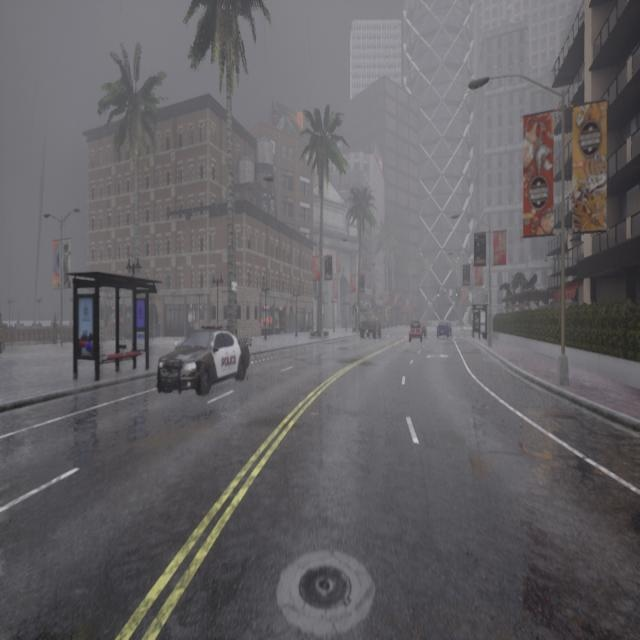bien_chi_dan: (455, 286, 459, 299), (437, 288, 440, 298), (486, 295, 488, 307), (437, 292, 440, 298), (456, 292, 458, 298), (486, 302, 488, 305), (288, 324, 288, 324)
